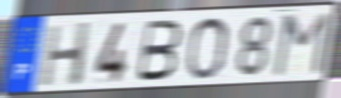4: (92, 19, 130, 85)
8: (234, 14, 276, 80)
B: (133, 18, 184, 83)
H: (38, 20, 94, 89)
M: (270, 10, 334, 78)
O: (183, 15, 231, 82)
